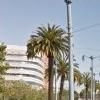Palm tree: (25, 17, 71, 94)
